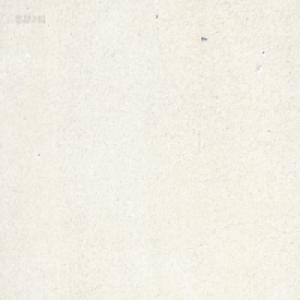Nail: (201, 36, 207, 41)
